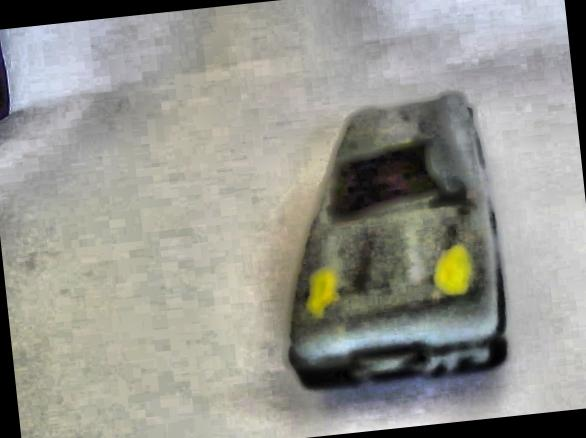normal_car: (256, 88, 522, 399)
